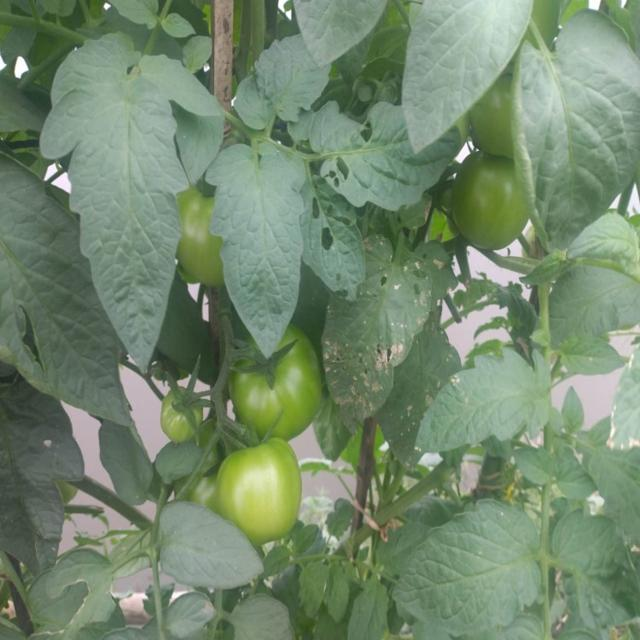tomato: (234, 344, 326, 441), (221, 438, 300, 538), (449, 158, 531, 250), (181, 191, 228, 291), (465, 81, 518, 151), (156, 386, 204, 444)
